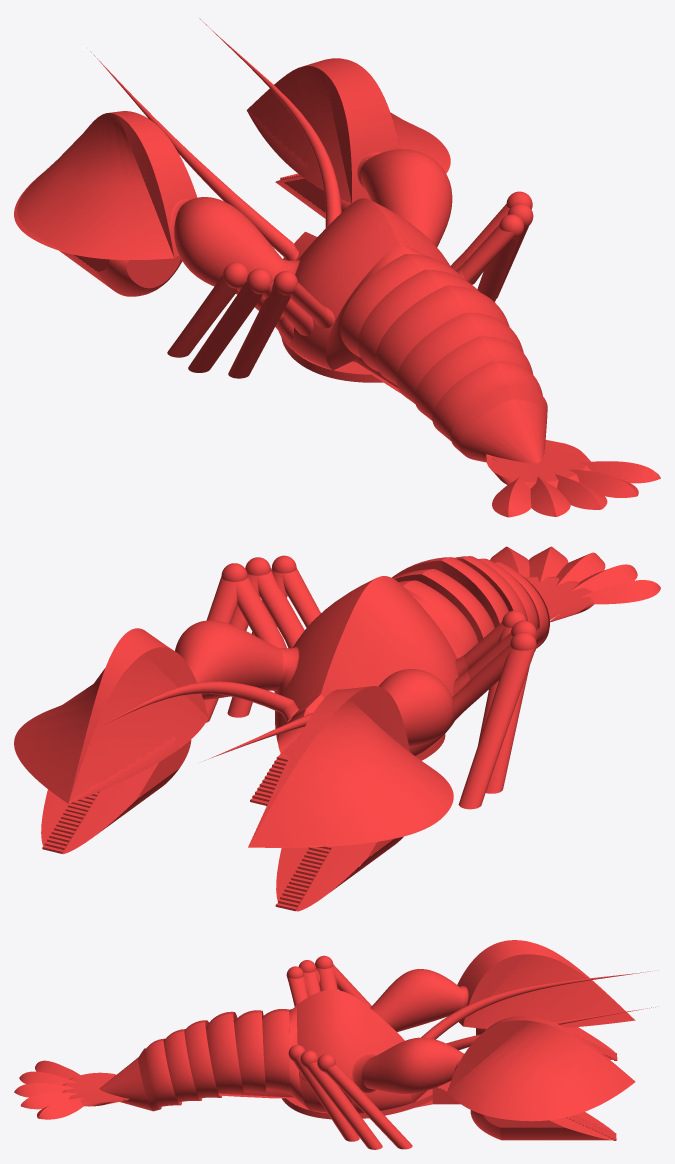
The model's file is ロブスター3D.gltf.
The picture shows the model from 3 angles, top to bottom: view 1: azimuth 30°, elevation 25°; view 2: azimuth 150°, elevation 25°; view 3: azimuth 270°, elevation 25°; orthographic projection. The views are drawn at different scales.
Visible parts, largest first — view 1: object 300, object 299, object 144, object 293, object 180, object 294, object 181, object 288, object 296, object 272, object 289, object 295 (+14 smaller); view 2: object 300, object 299, object 144, object 293, object 181, object 232, object 130, object 180, object 233, object 187, object 290, object 136 (+23 smaller); view 3: object 299, object 300, object 144, object 181, object 293, object 180, object 232, object 288, object 290, object 289, object 294, object 296 (+19 smaller).
Boxes of the visible parts, x1,y1,x2,y2 form: object 300: (17, 111, 197, 259); object 299: (247, 58, 450, 203); object 144: (278, 198, 450, 369); object 293: (486, 440, 660, 517); object 180: (174, 197, 282, 294); object 294: (451, 385, 547, 463); object 181: (360, 149, 452, 247); object 288: (375, 285, 509, 385); object 296: (396, 312, 523, 403); object 272: (414, 336, 533, 420); object 289: (357, 269, 479, 371); object 295: (432, 361, 542, 454); object 300: (248, 686, 451, 847); object 299: (14, 628, 208, 803); object 144: (275, 576, 458, 755); object 293: (490, 546, 660, 622); object 181: (175, 620, 283, 699); object 232: (41, 739, 191, 854); object 130: (458, 645, 536, 809); object 180: (378, 669, 454, 746); object 233: (276, 836, 403, 911); object 187: (87, 681, 292, 732); object 290: (398, 580, 478, 652); object 136: (254, 570, 304, 639); object 299: (447, 1016, 635, 1121); object 300: (457, 940, 635, 1028); object 144: (296, 989, 432, 1113); object 181: (362, 1037, 462, 1093); object 293: (14, 1060, 129, 1119); object 180: (370, 969, 463, 1032); object 232: (470, 1110, 616, 1140); object 288: (205, 1011, 244, 1094); object 290: (262, 1009, 289, 1093); object 289: (234, 1010, 266, 1094); object 294: (99, 1050, 161, 1111); object 296: (184, 1020, 220, 1098).
Bounding box in the file's own units: 33.22 × 13.92 × 64.73.
